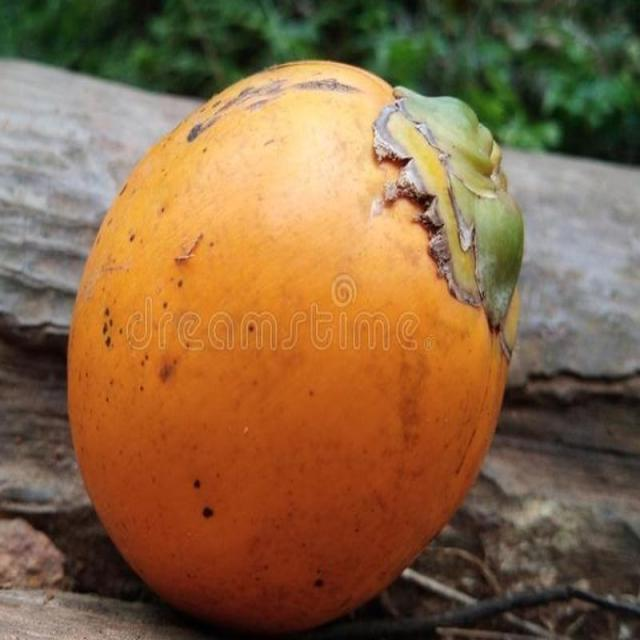good: (66, 62, 526, 639)
